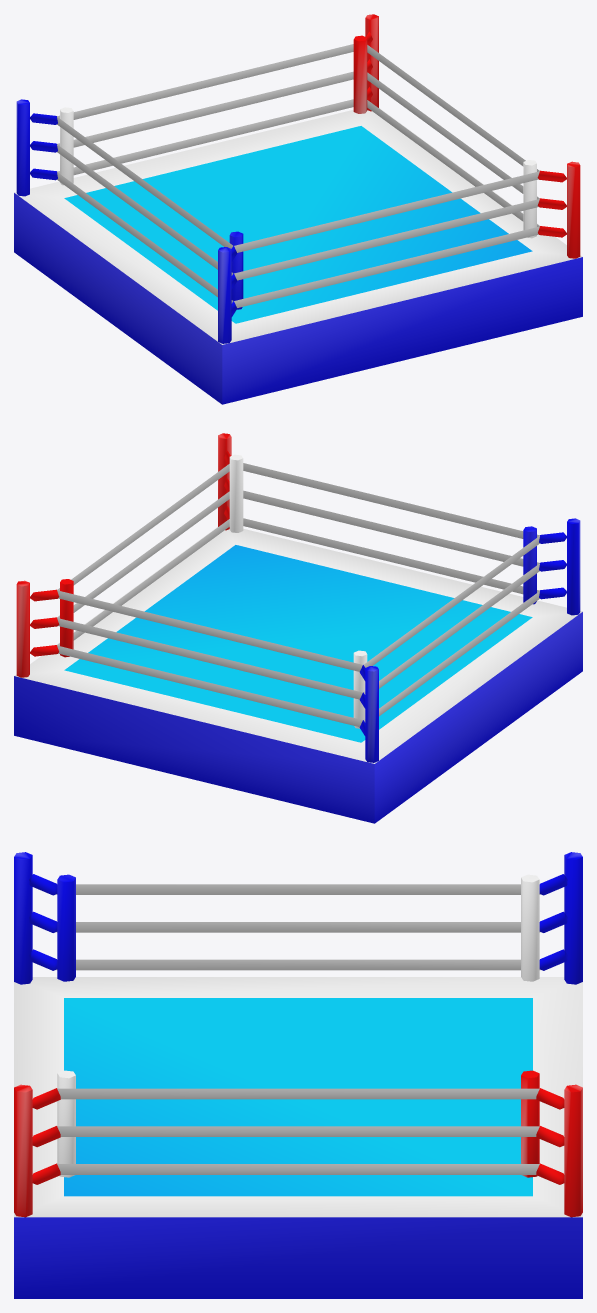
Rendered from ps2_save-icons_fireprowrestlingz.glb.
3 views of the same model, one above another, from view 1: azimuth 30°, elevation 25°; view 2: azimuth 150°, elevation 25°; view 3: azimuth 270°, elevation 25° (orthographic). The views are drawn at different scales.
Parts seen in each view (by area): view 1: fpz.ico; view 2: fpz.ico; view 3: fpz.ico.
Boxes of the visible parts, <box> form: fpz.ico: <box>14,14,582,404</box>; fpz.ico: <box>14,433,582,823</box>; fpz.ico: <box>14,852,582,1298</box>.
Bounding box in the file's own units: 4.71 × 1.88 × 4.71.
Materials: 1 (1 with a texture image).
